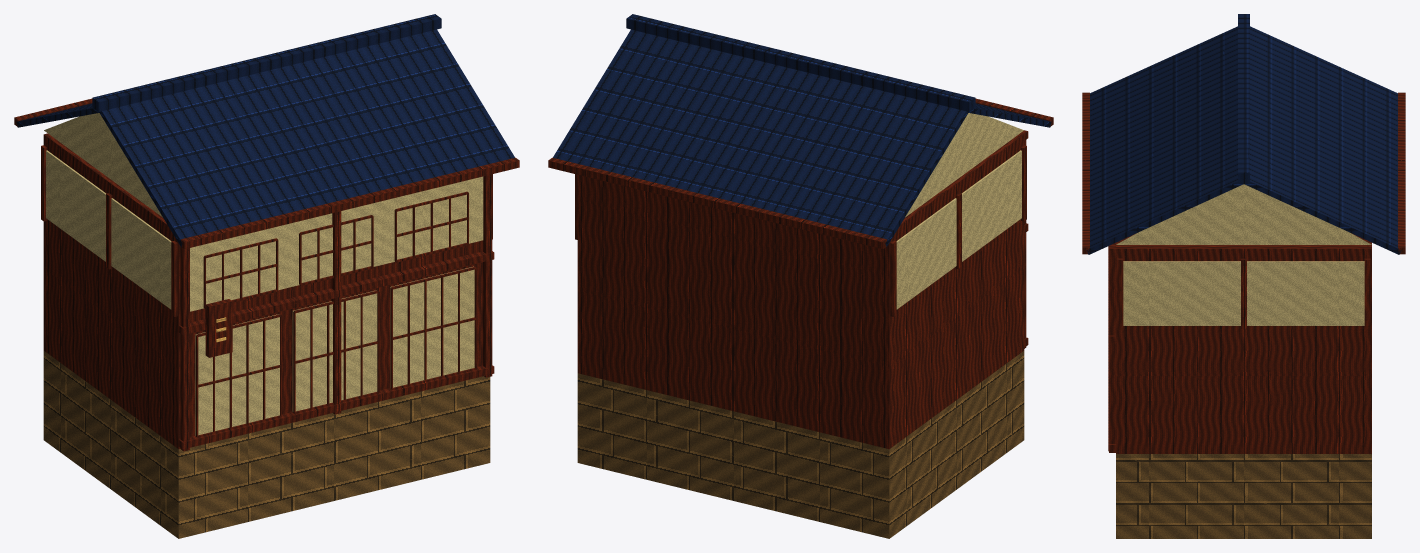
The model's file is timber_house.glb.
3 views of the same model, side by side, from view 1: azimuth 30°, elevation 25°; view 2: azimuth 150°, elevation 25°; view 3: azimuth 270°, elevation 25° (orthographic). The views are drawn at different scales.
Parts seen in each view (by area): view 1: Body, Roof; view 2: Body, Roof; view 3: Body, Roof.
Boxes of the visible parts, box(x1,y1,x2,y2) form: Body: box(41, 133, 494, 538); Roof: box(14, 14, 519, 248); Body: box(575, 130, 1028, 538); Roof: box(548, 14, 1053, 248); Body: box(1108, 233, 1371, 538); Roof: box(1082, 14, 1405, 254).
Size of the model in its own units: 8.8 by 9.65 by 7.58.
Materials: 5 (5 with a texture image).
